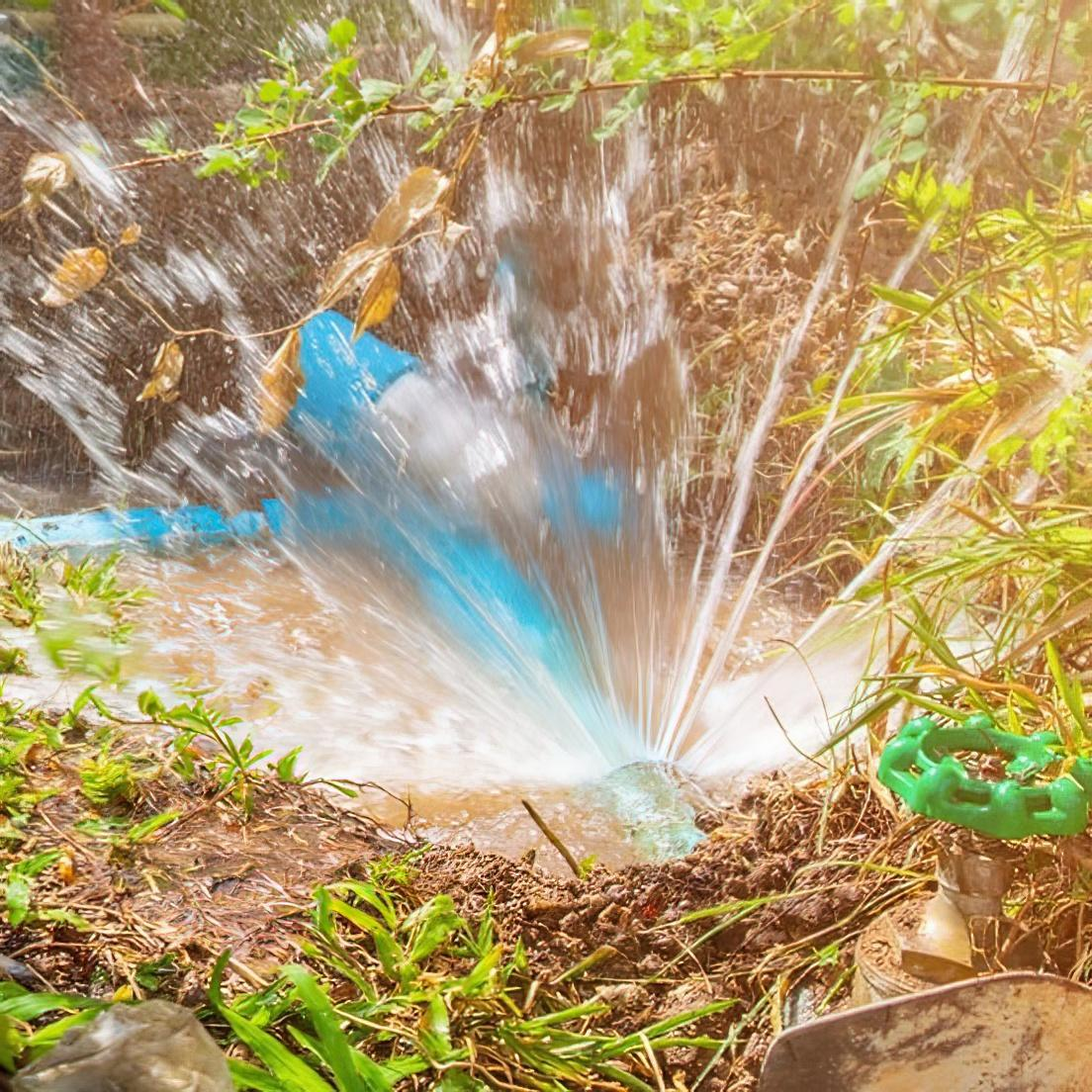pipe burst: (0, 34, 1092, 809)
water accumulation: (150, 532, 870, 881)
